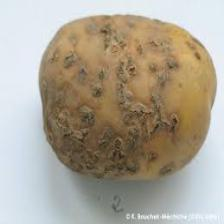Diseased-fungal potato: (31, 9, 222, 186)
